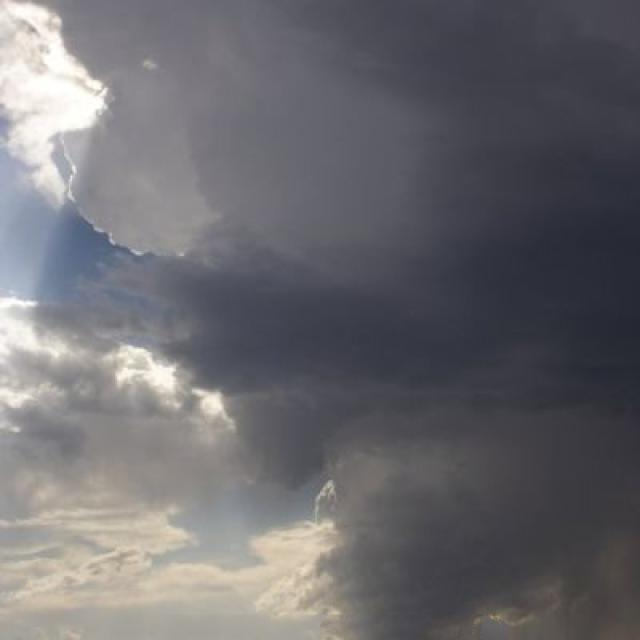Cb: (1, 15, 640, 592)
